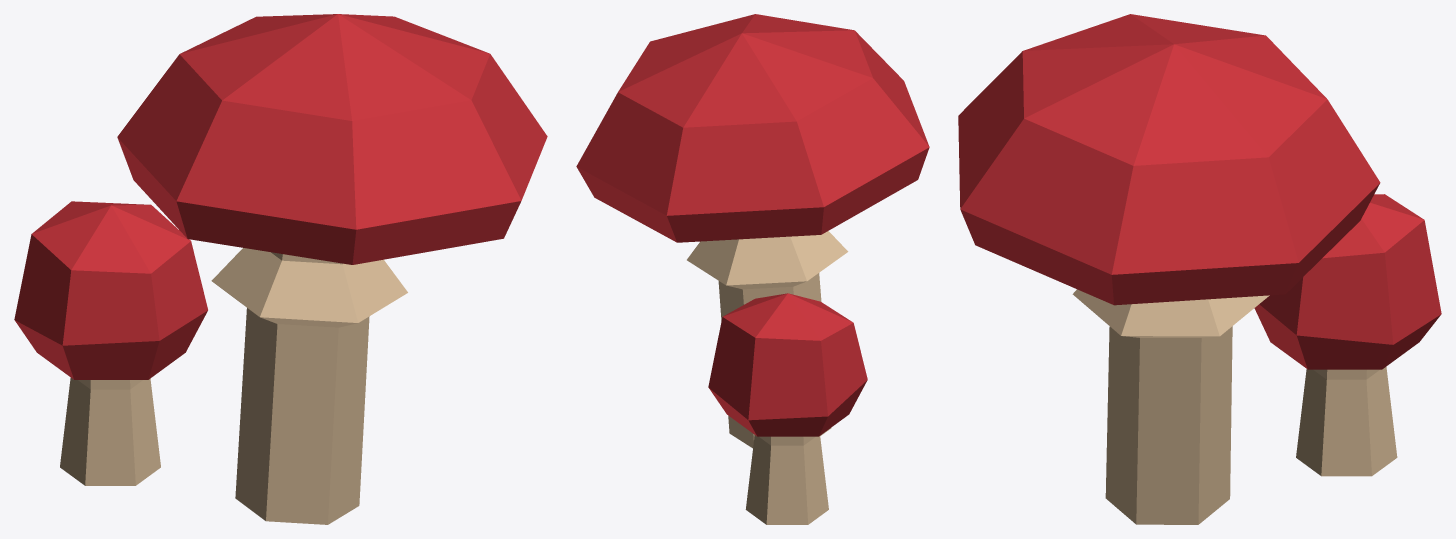
The model's file is mushroom-toadstool.glb.
The picture shows the model from 3 angles, left to right: view 1: azimuth 30°, elevation 25°; view 2: azimuth 150°, elevation 25°; view 3: azimuth 270°, elevation 25°; orthographic projection. The views are drawn at different scales.
Visible parts, largest first — view 1: mushroom-toadstool; view 2: mushroom-toadstool; view 3: mushroom-toadstool.
Boxes of the visible parts, x1,y1,x2,y2 form: mushroom-toadstool: [14, 14, 547, 524]; mushroom-toadstool: [576, 14, 929, 524]; mushroom-toadstool: [958, 14, 1441, 524].
Bounding box in the file's own units: 0.268 × 0.3143 × 0.2853.
